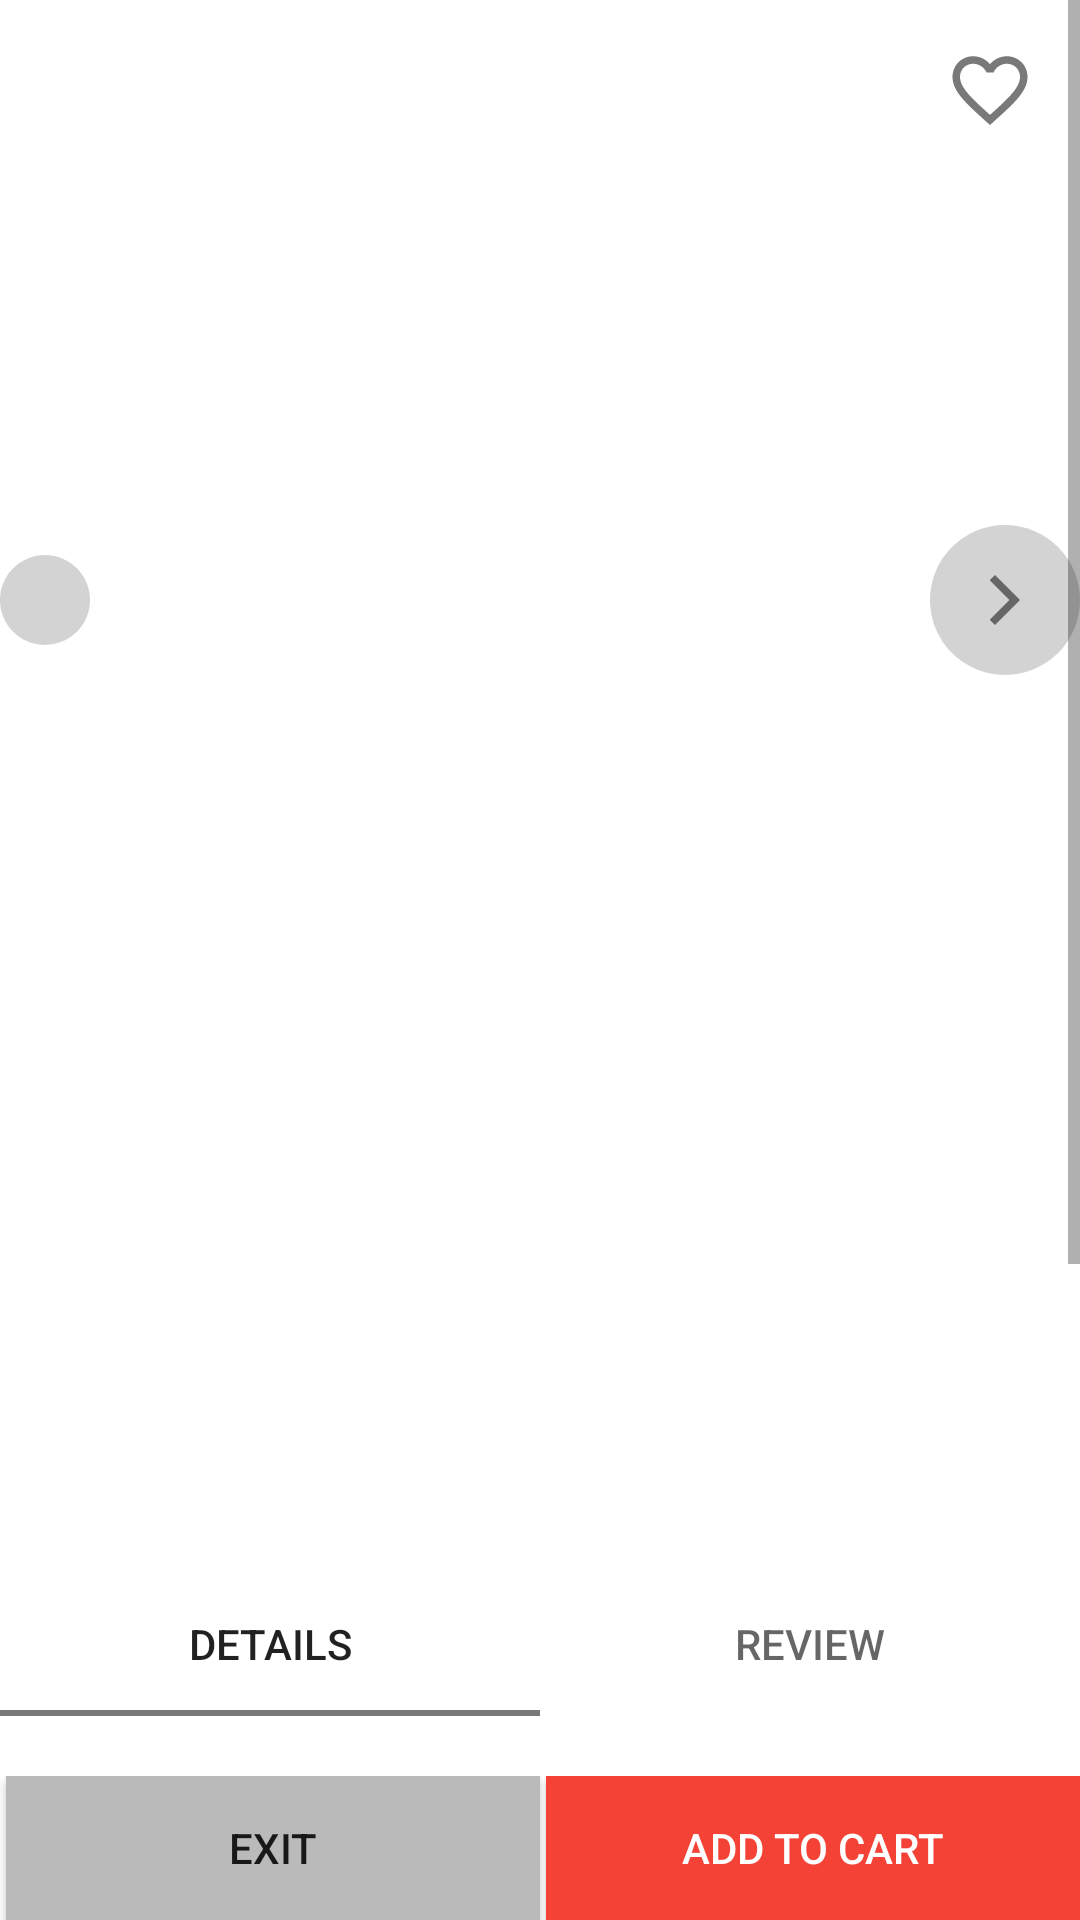

Named icons in this screenshot (1080 × 1920) and their centers, (x=x, y=y):
forward: (x=1005, y=600)
love: (x=990, y=90)
